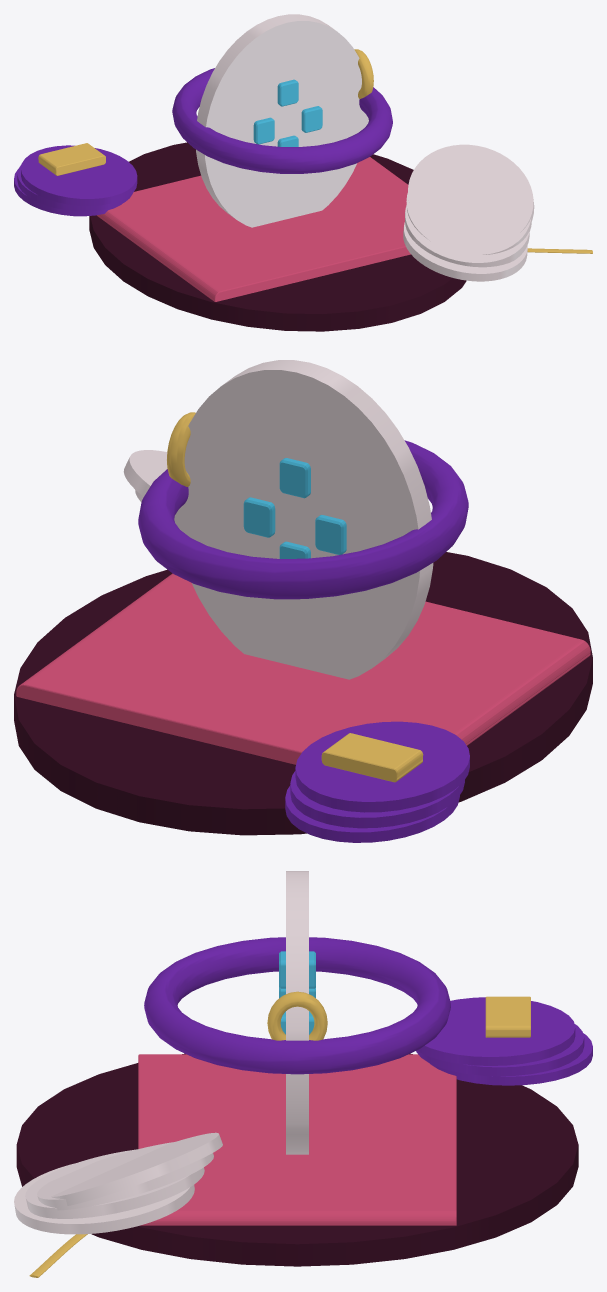
Rendered from 0592_考古图鉴_庞贝古钱币.glb.
3 renders of one model, top to bottom at view 1: azimuth 30°, elevation 25°; view 2: azimuth 150°, elevation 25°; view 3: azimuth 270°, elevation 25°, orthographic. The views are drawn at different scales.
Parts seen in each view (by area): view 1: card_0592; view 2: card_0592; view 3: card_0592.
Boxes of the visible parts, <box> form: card_0592: <box>14,14,592,331</box>; card_0592: <box>14,360,592,842</box>; card_0592: <box>14,871,592,1277</box>.
Bounding box in the file's own units: 1.8 × 1 × 1.83.
